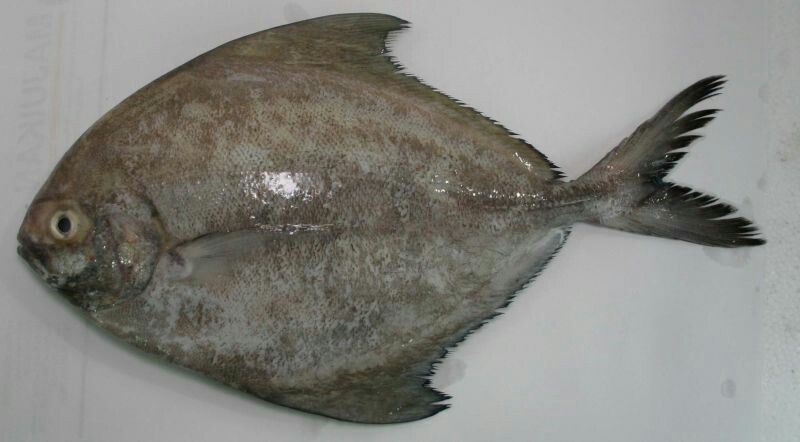Ikan Bawal: (3, 1, 783, 431)
